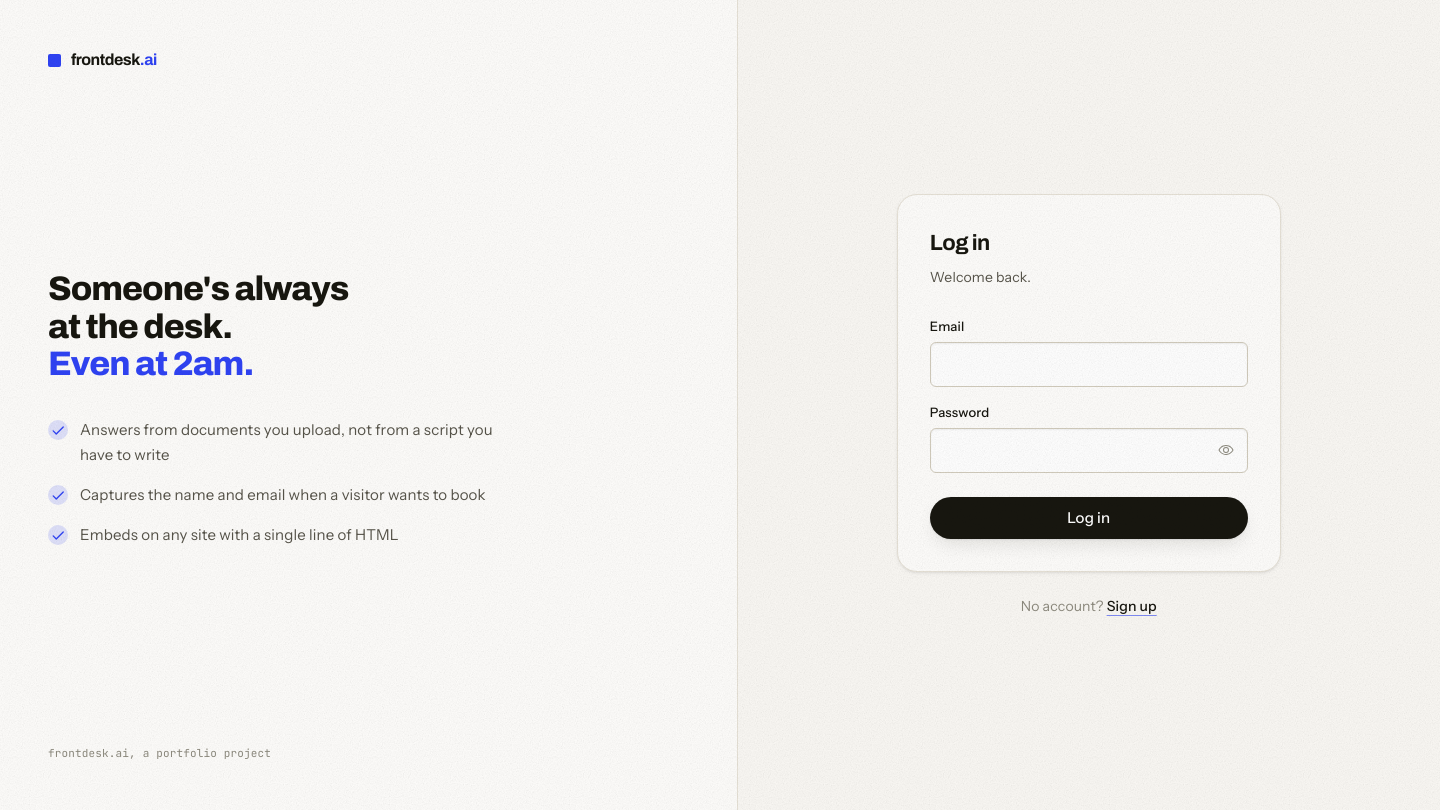
Test: LoginPage › shows an error message and stays on the page when credentials are wrong
Type "owner@example.com" into the field labelled "Email".
click(1089, 364); type("owner@example.com")  # box [930,342,1248,387]
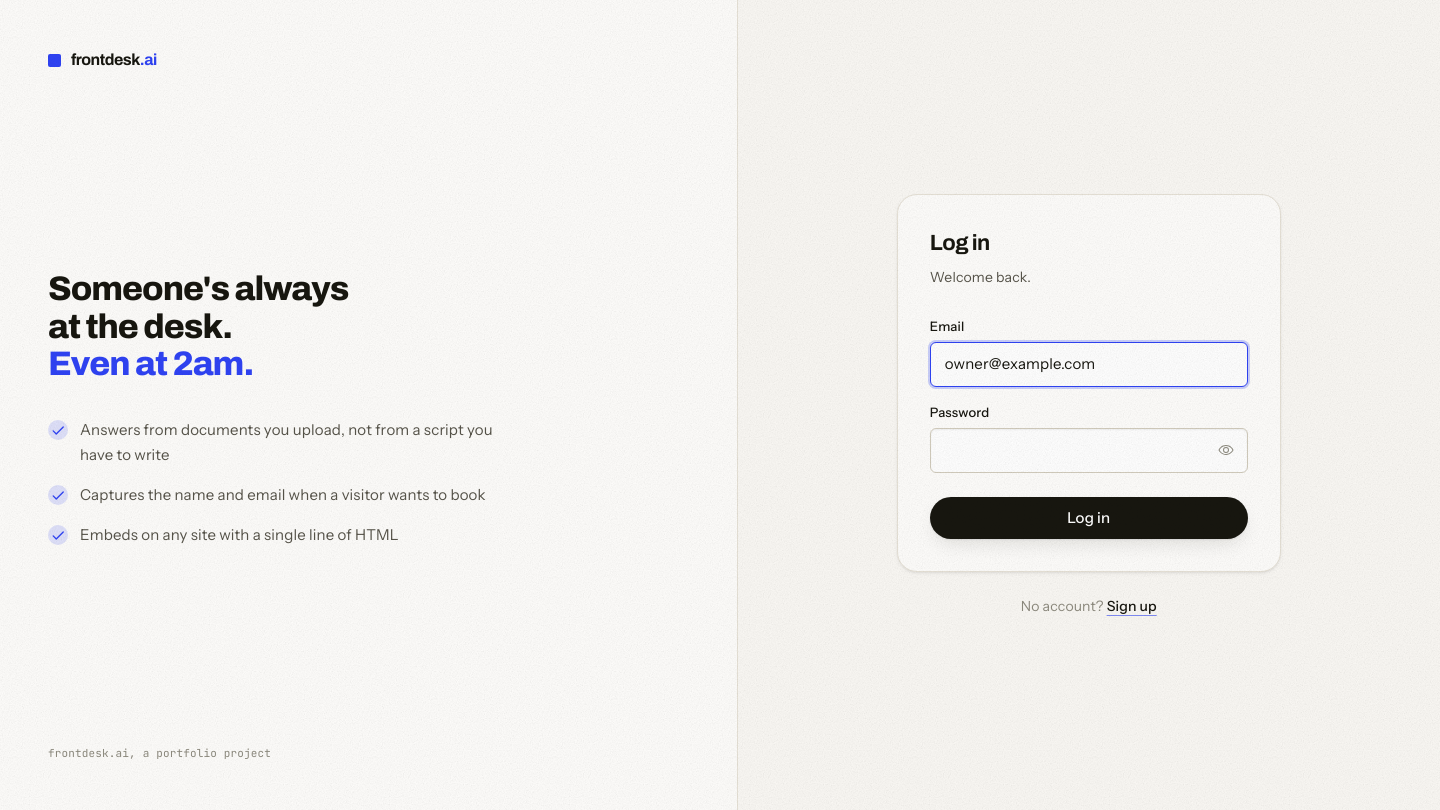
Type "wrong-password" into the password field labelled "Password".
click(1089, 450); type("wrong-password")  # box [930,428,1248,473]
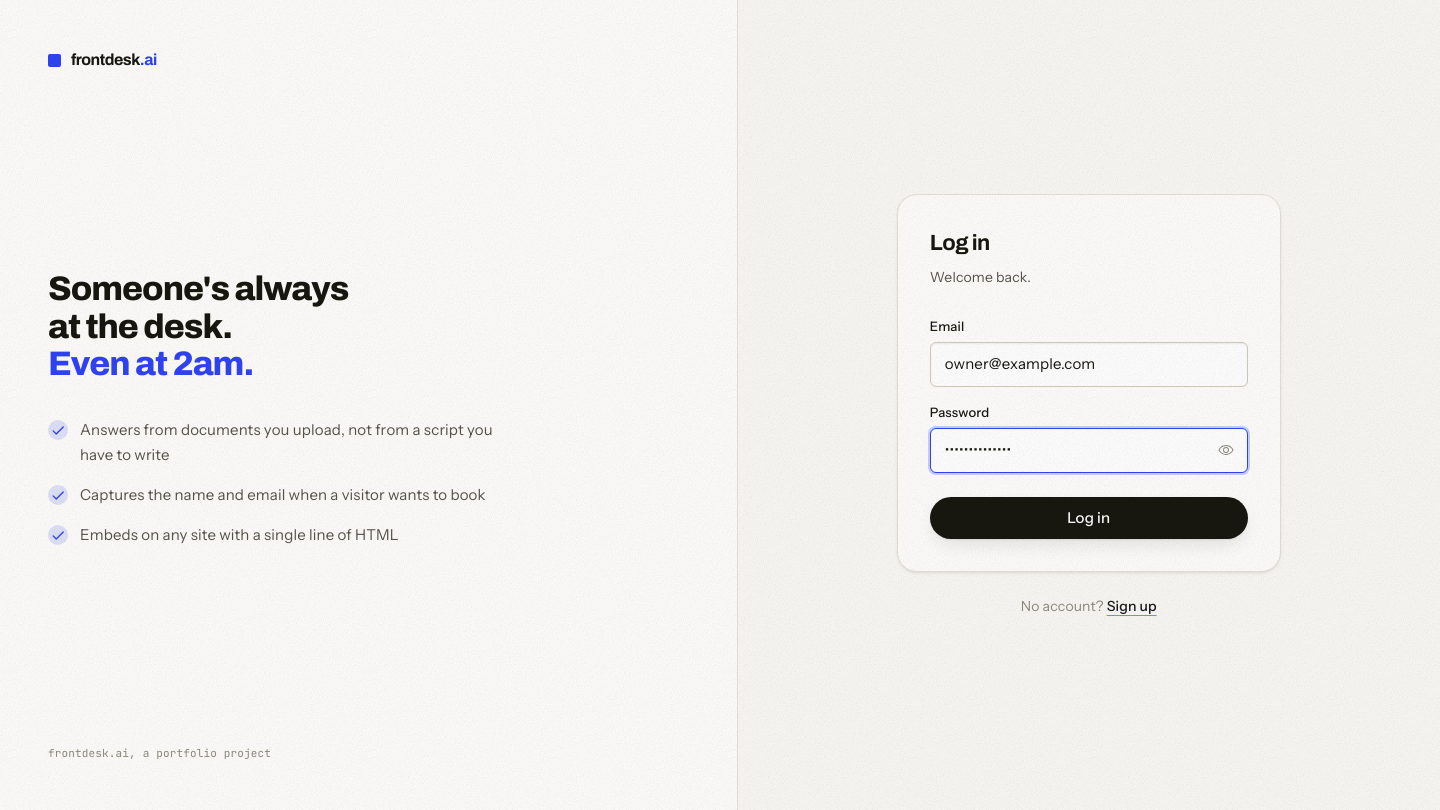
Click the button "Log in".
click(1089, 518)  # box [930,497,1248,539]
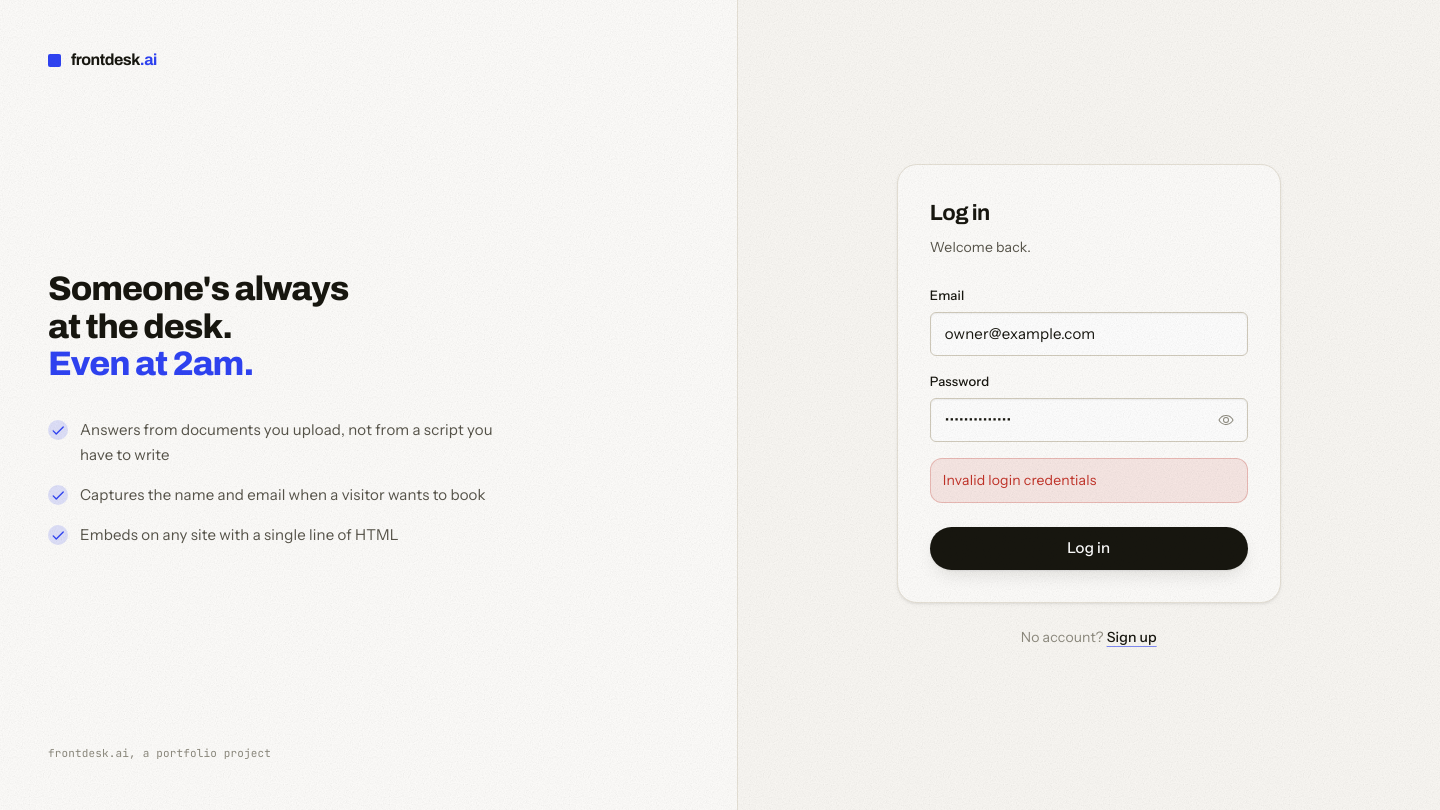
Check: the message reads "Invalid login credentials", box [943,471,1096,489]
